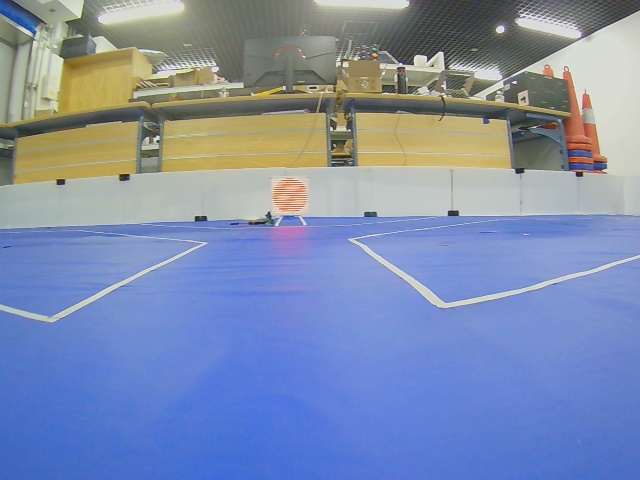red: (271, 177, 308, 216)
